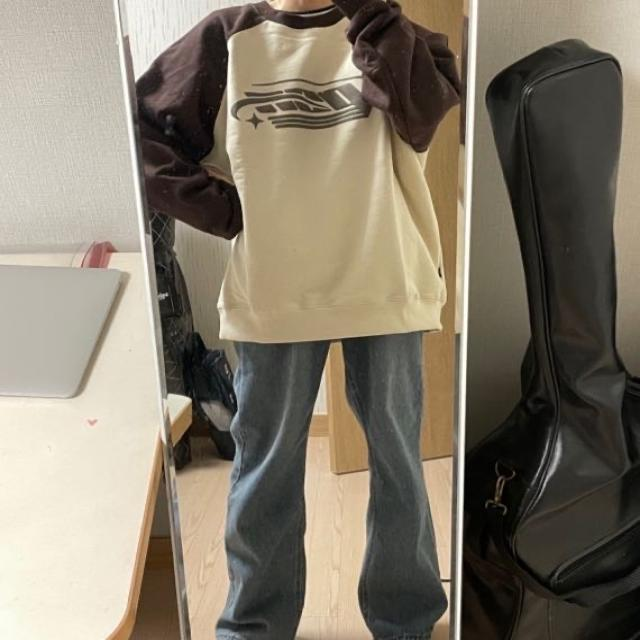denimpants: (227, 327, 452, 635)
mtm: (142, 0, 460, 344)
